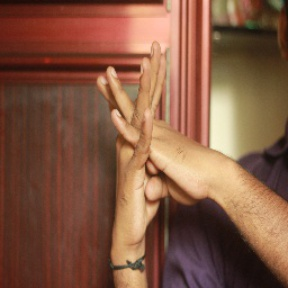W: (91, 36, 217, 232)
